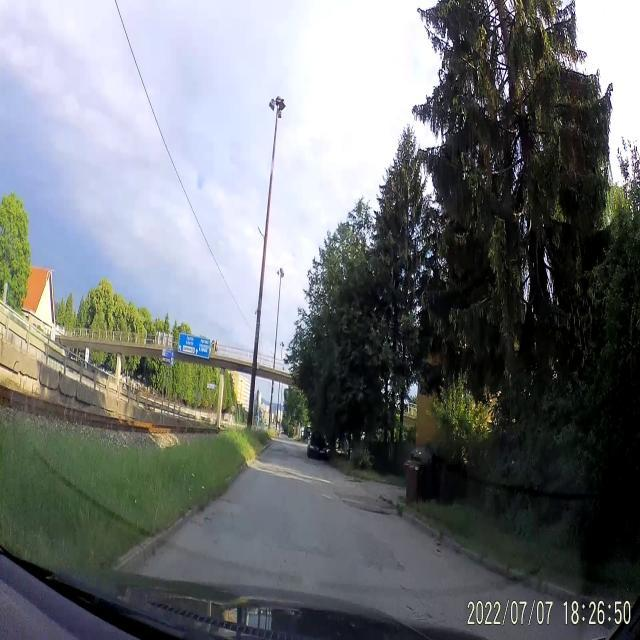Pothole: (354, 502, 392, 518), (404, 604, 434, 624), (217, 496, 234, 506), (201, 512, 213, 526), (435, 538, 442, 562), (348, 478, 363, 486)
